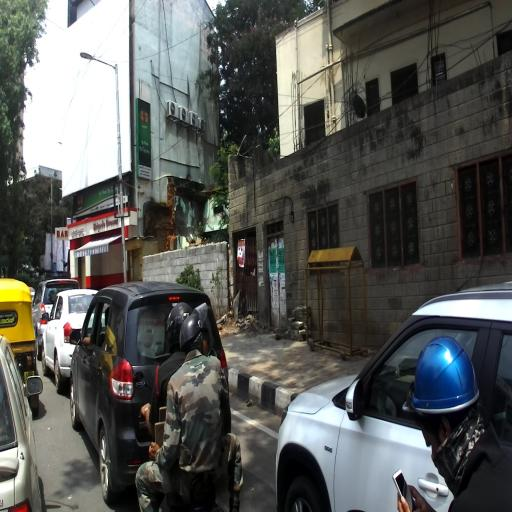street_light_0: (80, 51, 118, 71)
